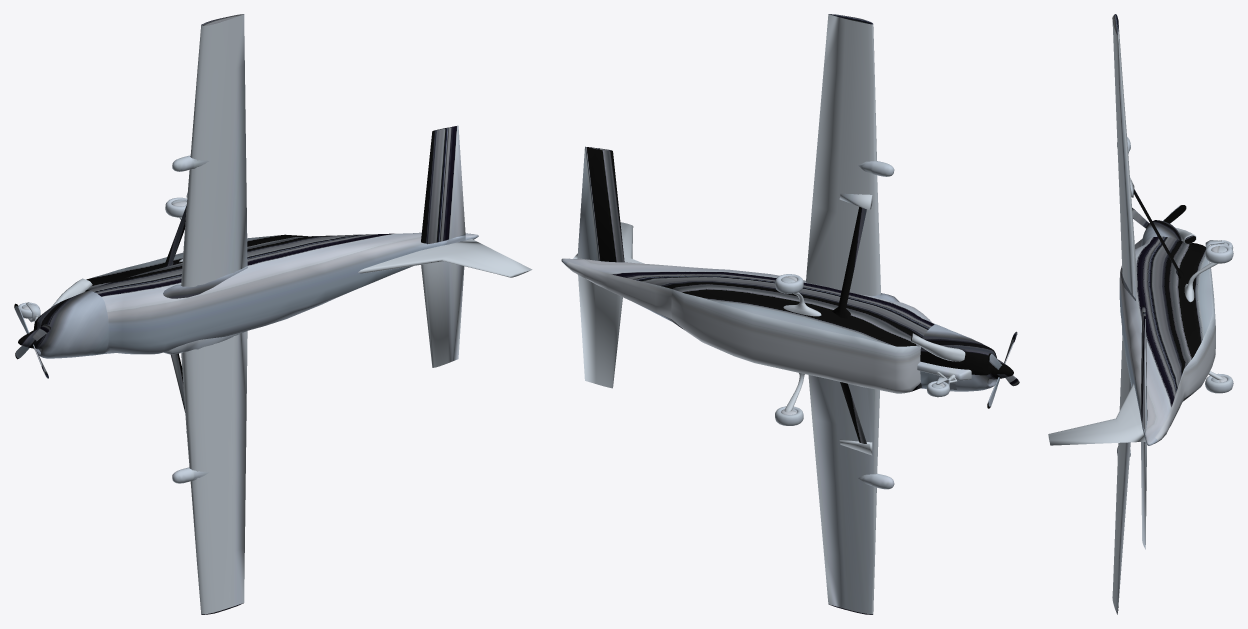
File: Cessna_208_Caravan.gltf
The picture shows the model from 3 angles, left to right: view 1: azimuth 30°, elevation 25°; view 2: azimuth 150°, elevation 25°; view 3: azimuth 270°, elevation 25°; orthographic projection.
Parts seen in each view (by area): view 1: g mesh8_dat_desirefx_me__obj; view 2: g mesh8_dat_desirefx_me__obj; view 3: g mesh8_dat_desirefx_me__obj, g mesh1_dat_desirefx_me__obj, g mesh0_dat_desirefx_me__obj, g mesh5_dat_desirefx_me__obj.
Part boxes in pixels (bbox=[...]): g mesh8_dat_desirefx_me__obj: bbox=[18, 14, 532, 614]; g mesh8_dat_desirefx_me__obj: bbox=[561, 14, 1013, 614]; g mesh8_dat_desirefx_me__obj: bbox=[1048, 14, 1215, 614]; g mesh1_dat_desirefx_me__obj: bbox=[1205, 244, 1233, 263]; g mesh0_dat_desirefx_me__obj: bbox=[1205, 373, 1233, 393]; g mesh5_dat_desirefx_me__obj: bbox=[1184, 262, 1223, 379].
Size of the model in its own units: 16.24 by 19.99 by 5.75.
Materials: 1 (1 with a texture image).
